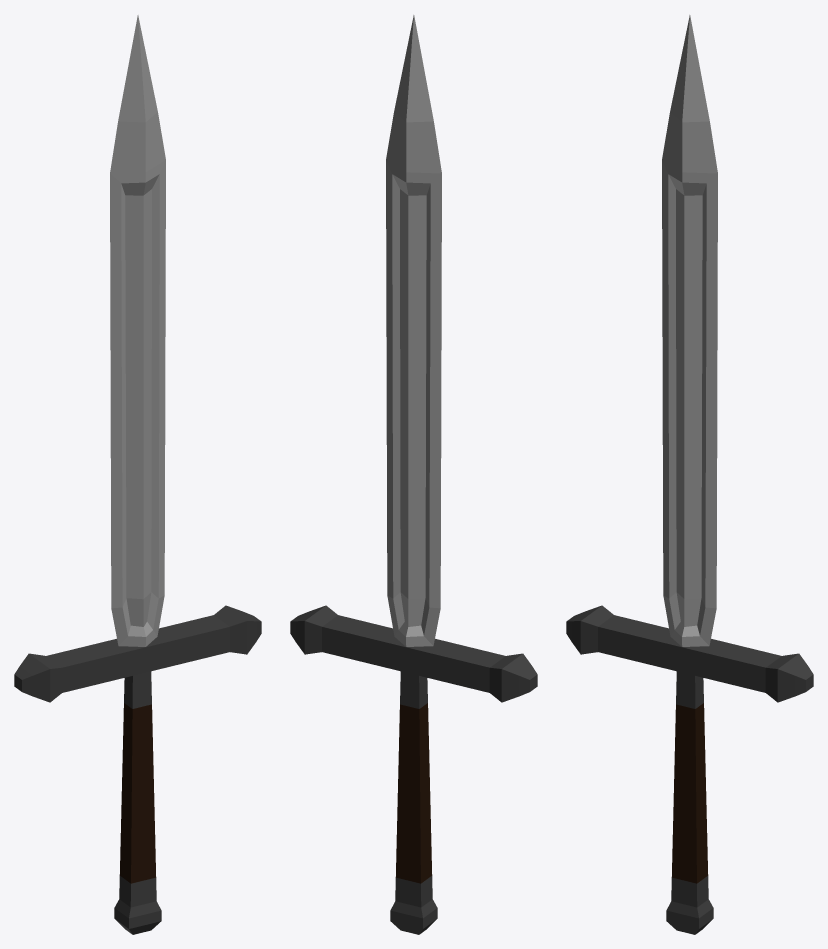
Rendered from Sword3.fbx.
3 views of the same model, side by side, from view 1: azimuth 30°, elevation 25°; view 2: azimuth 150°, elevation 25°; view 3: azimuth 330°, elevation 25° (orthographic).
Parts seen in each view (by area): view 1: Sword3; view 2: Sword3; view 3: Sword3.
Boxes of the visible parts, x1,y1,x2,y2 form: Sword3: (14, 15, 261, 934); Sword3: (290, 15, 537, 934); Sword3: (566, 15, 813, 934).
Size of the model in its own units: 0.3023 by 1.1 by 0.0466.
